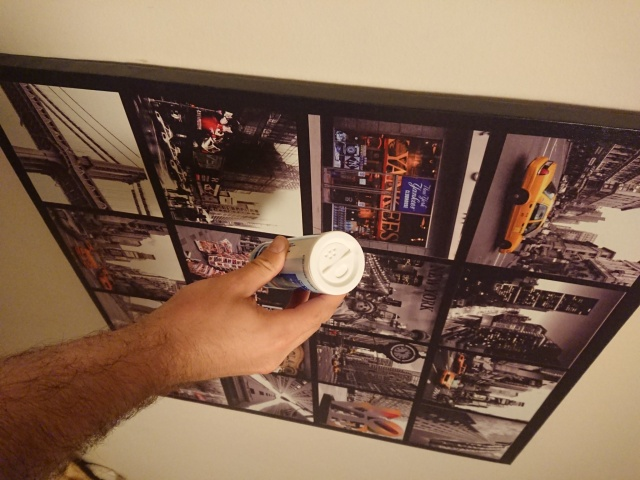Solana Pag Fine Sea Salt 250g: (247, 229, 367, 297)
